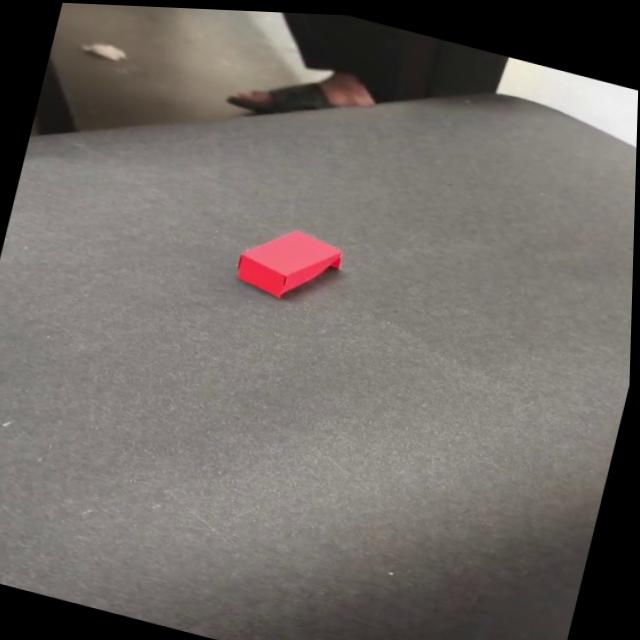red block: (228, 214, 346, 311)
